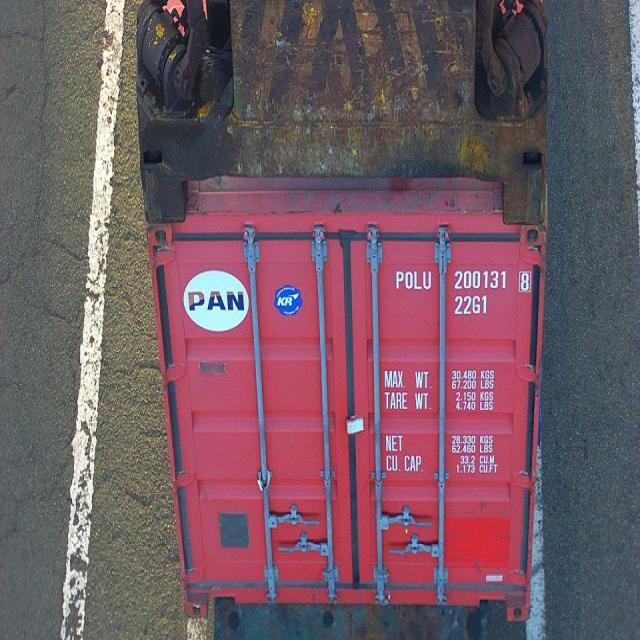ISO: (456, 296, 492, 316)
container_number: (398, 270, 532, 290)
